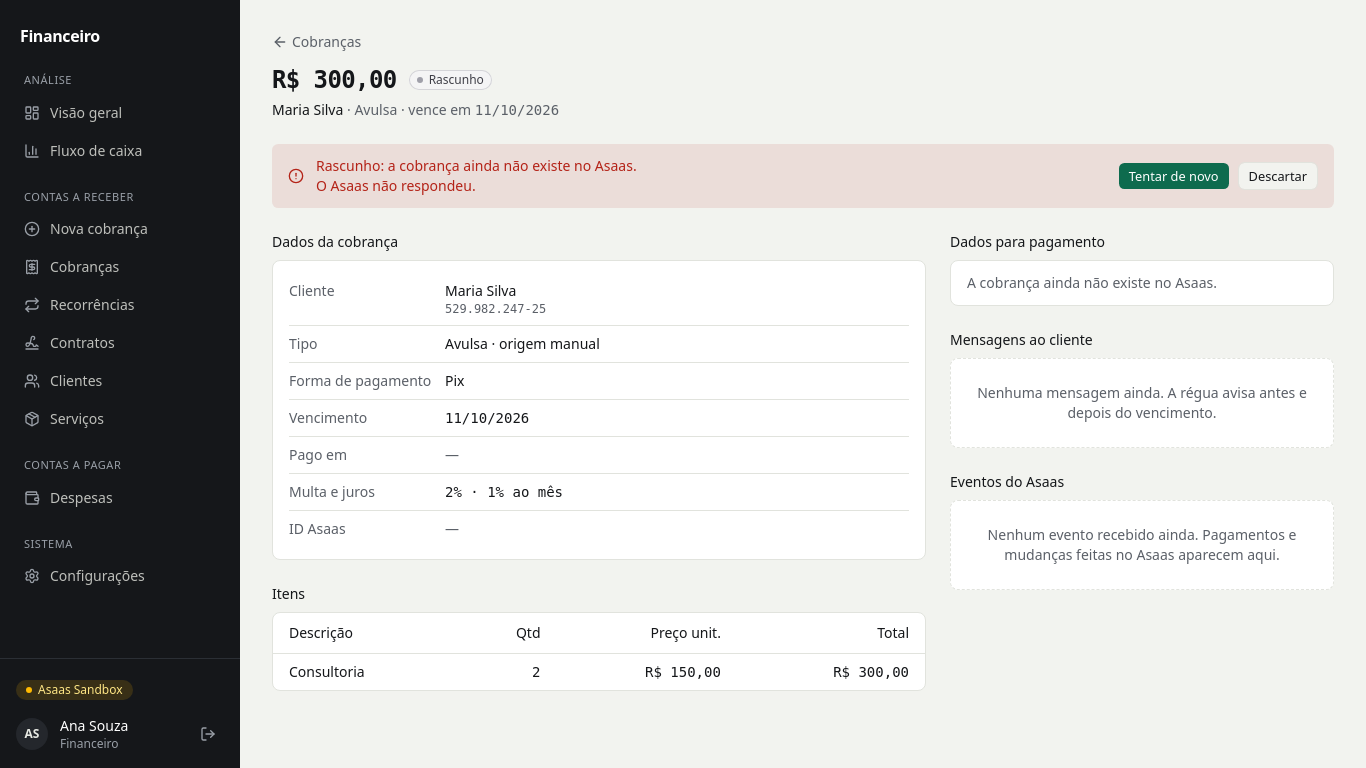
Test: [COB-07][WHK-03.4] detalhe da cobrança › [COB-12.1] rascunho mostra o erro e "Tentar de novo" gera no Asaas
Expected: the message shows "O Asaas não respondeu.", [316, 176, 476, 195]
Click the button "Tentar de novo". click: (1174, 176)
box: [1118, 162, 1230, 190]
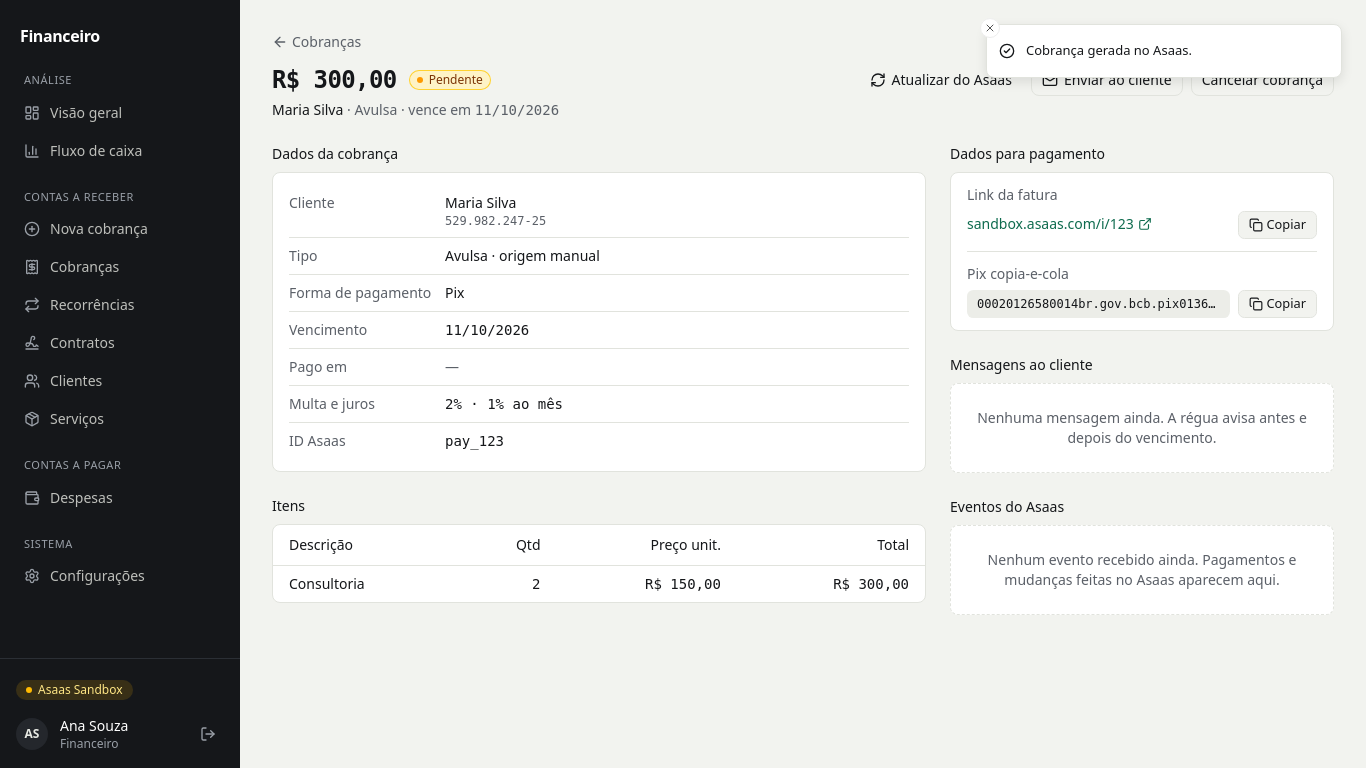
Expected: the button with aria-label "Copiar link da fatura" is shown, [1238, 211, 1317, 239]
Expected: the button "Descartar" is gone
